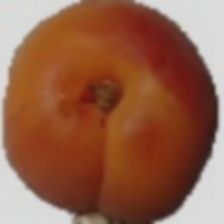apricot: (0, 20, 201, 208)
